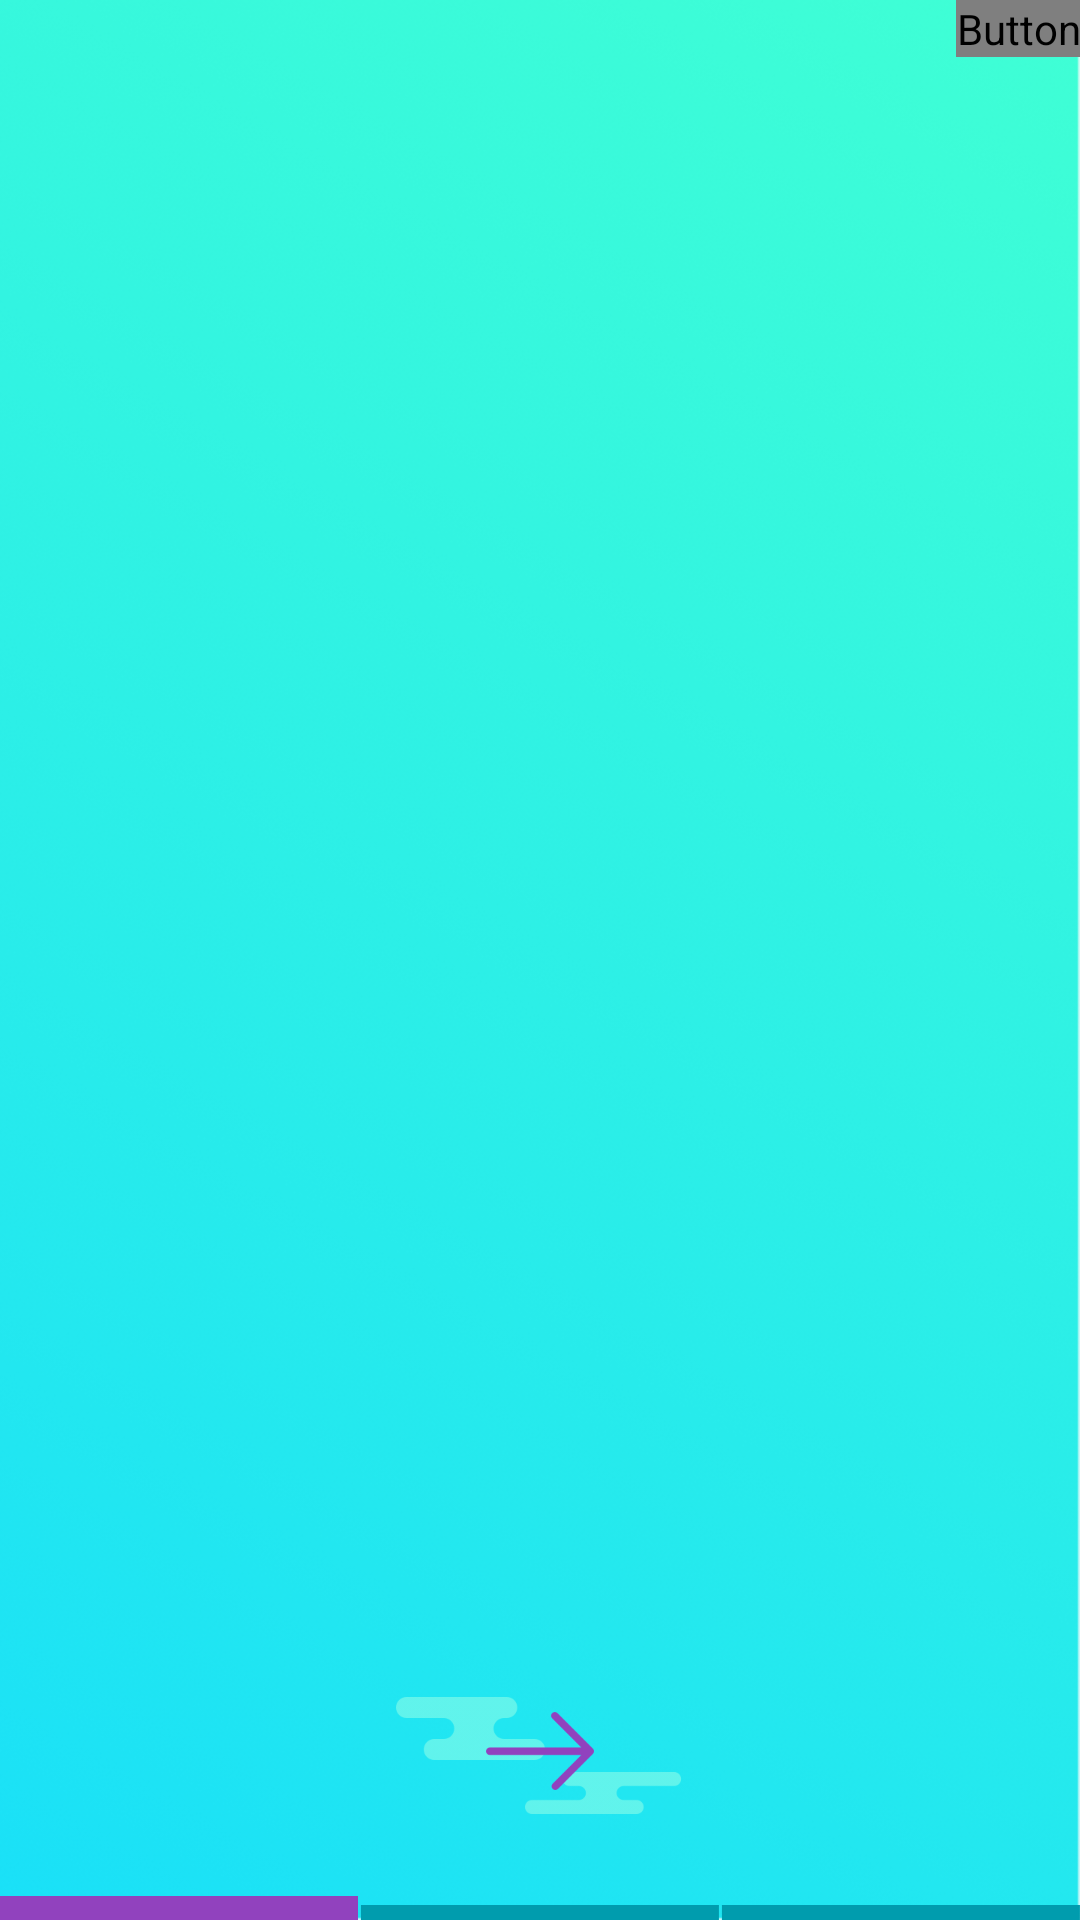

Screen size 1080px×1920px. Icon name, then its center in pixels as (x,y):
arrow pass step: (540,1743)
